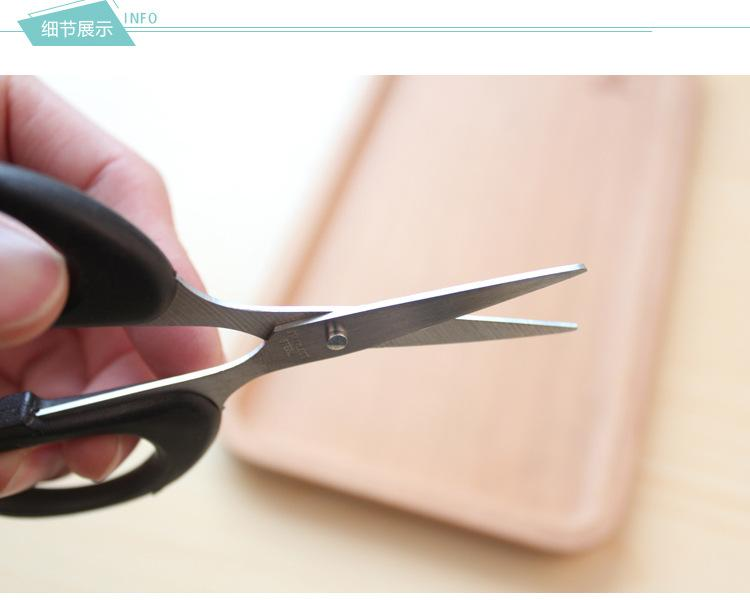scissor: (9, 138, 615, 529)
